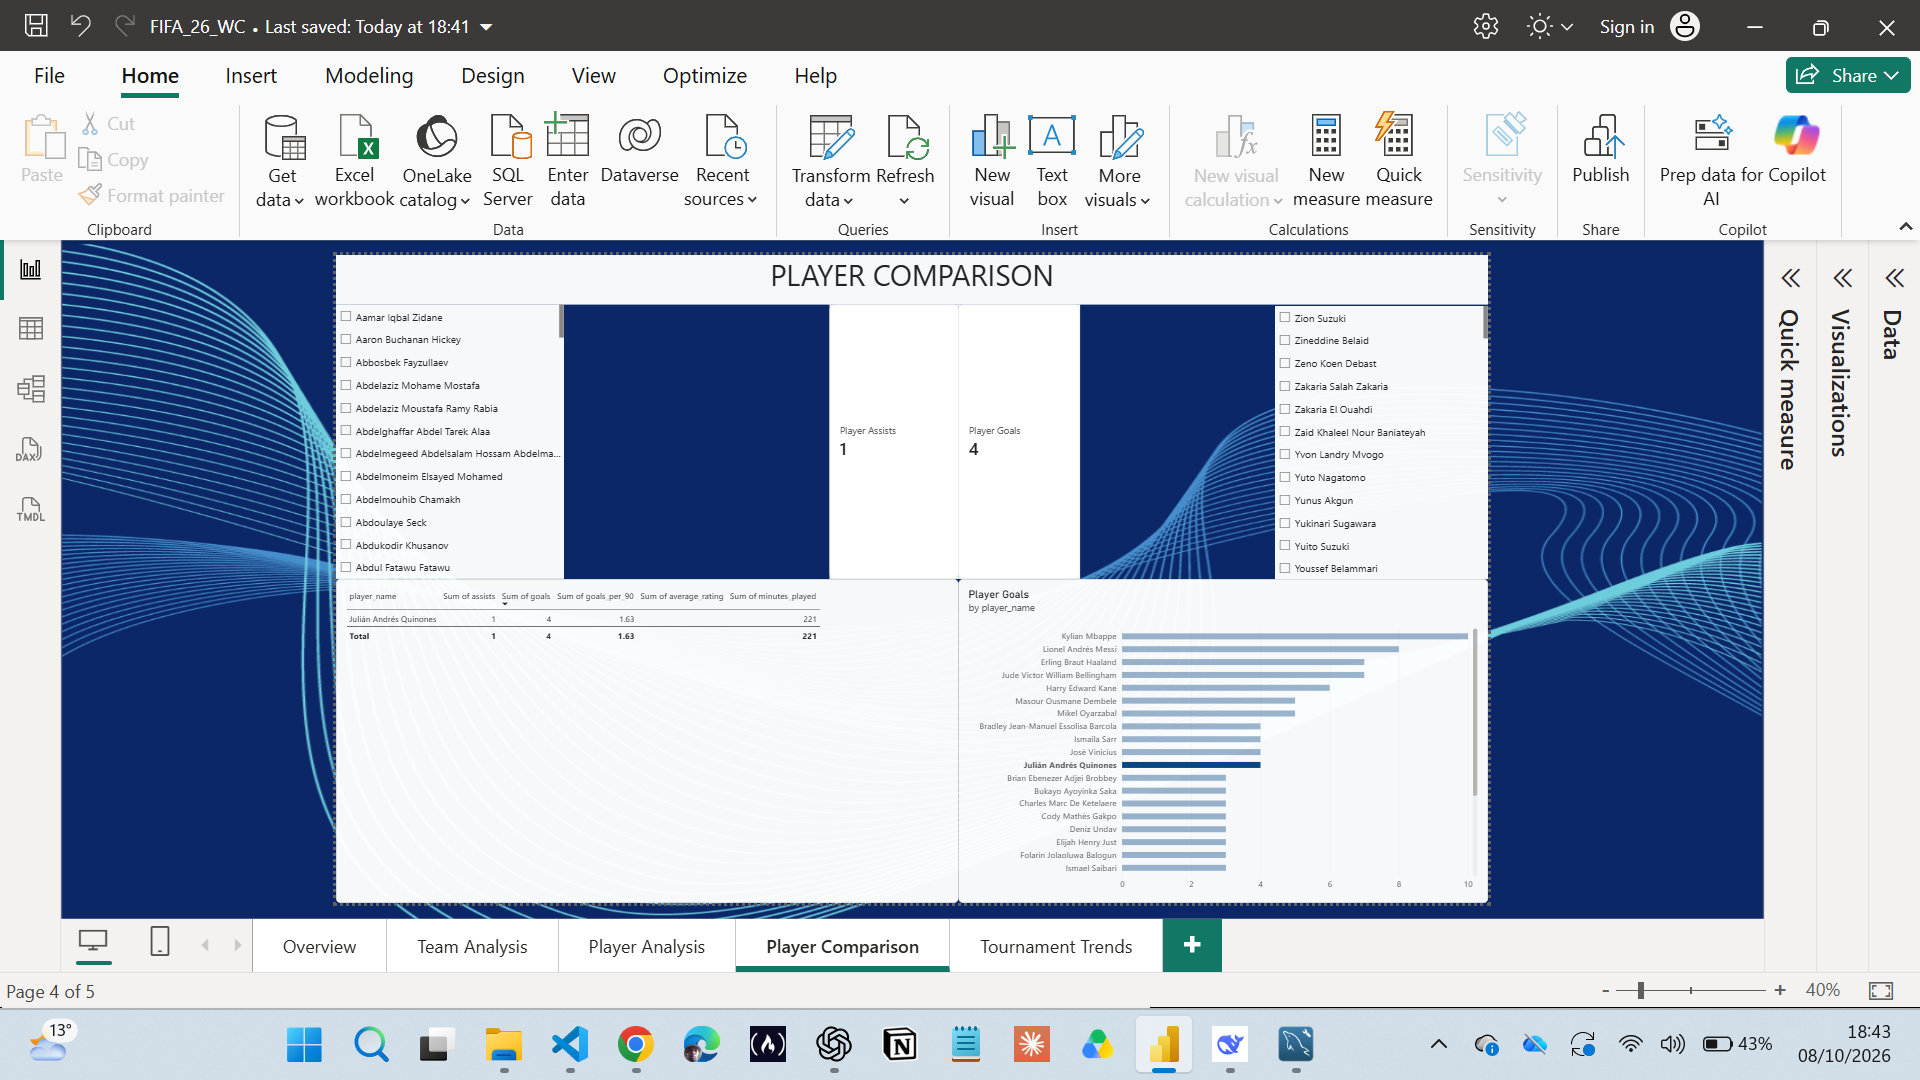

Layout of this report page (visuals, bound fields, positions):
{"tool":"powerbi","page":{"name":"Player Comparison","canvas":[1920,1080],"ordinal":3},"visuals":[{"type":"textbox","box":[0,0,1920,82.5],"z":0},{"type":"slicer","fields":{"Values":["players.player_name"]},"box":[0,82.5,665,260],"z":2},{"type":"slicer","fields":{"Values":["players.player_name"]},"box":[1360,82.5,560,260],"z":3},{"type":"tableEx","title":"Selected Players Comparison","fields":{"Values":["players.player_name","Sum(player_stats.assists)","Sum(player_stats.goals)","Sum(player_stats.goals_per_90)","Sum(player_stats.average_rating)","Sum(player_stats.minutes_played)"]},"box":[0,342.5,1037.5,737.5],"z":4},{"type":"cardVisual","fields":{"Data":["matches.Player Goals"]},"box":[1037.5,82.5,322.5,260],"z":6},{"type":"cardVisual","fields":{"Data":["matches.Player Assists"]},"box":[665,82.5,372.5,260],"z":7},{"type":"clusteredBarChart","title":"Top 15 Tournament Scorers","fields":{"Category":["players.player_name"],"Y":["matches.Player Goals"]},"box":[1037.5,342.5,882.5,737.5],"z":8}]}

Visuals, with their boxes on the page's 1920x1080 design canvas (x1, y1, x2, y2). These are canvas units, not pixel positions in the 1920x1080 screenshot, which may show the page scaled, cropped or inside an application window:
textbox: x1=0 y1=0 x2=1920 y2=82
slicer - players.player_name: x1=0 y1=82 x2=665 y2=342
slicer - players.player_name: x1=1360 y1=82 x2=1920 y2=342
"Selected Players Comparison" tableEx: x1=0 y1=342 x2=1038 y2=1080
cardVisual - matches.Player Goals: x1=1038 y1=82 x2=1360 y2=342
cardVisual - matches.Player Assists: x1=665 y1=82 x2=1038 y2=342
"Top 15 Tournament Scorers" clusteredBarChart: x1=1038 y1=342 x2=1920 y2=1080
